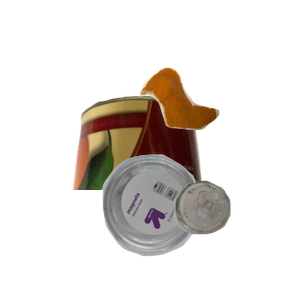glass: (172, 178, 300, 300)
metal: (69, 93, 265, 273)
plastic: (100, 152, 293, 300)
trash: (137, 65, 300, 188)
